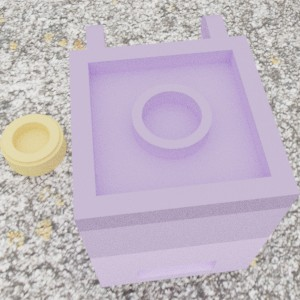lego: (68, 14, 299, 287), (0, 113, 66, 176)
